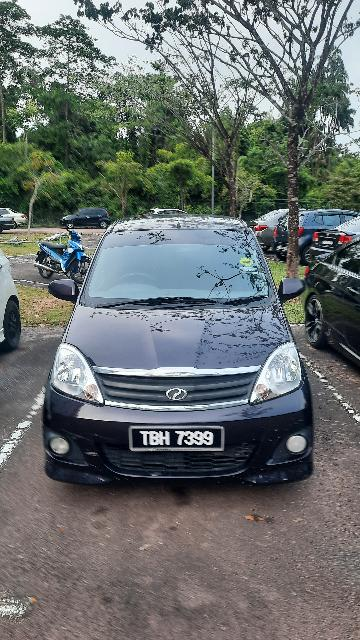License_Plate: (124, 424, 228, 457)
car: (37, 217, 323, 492)
